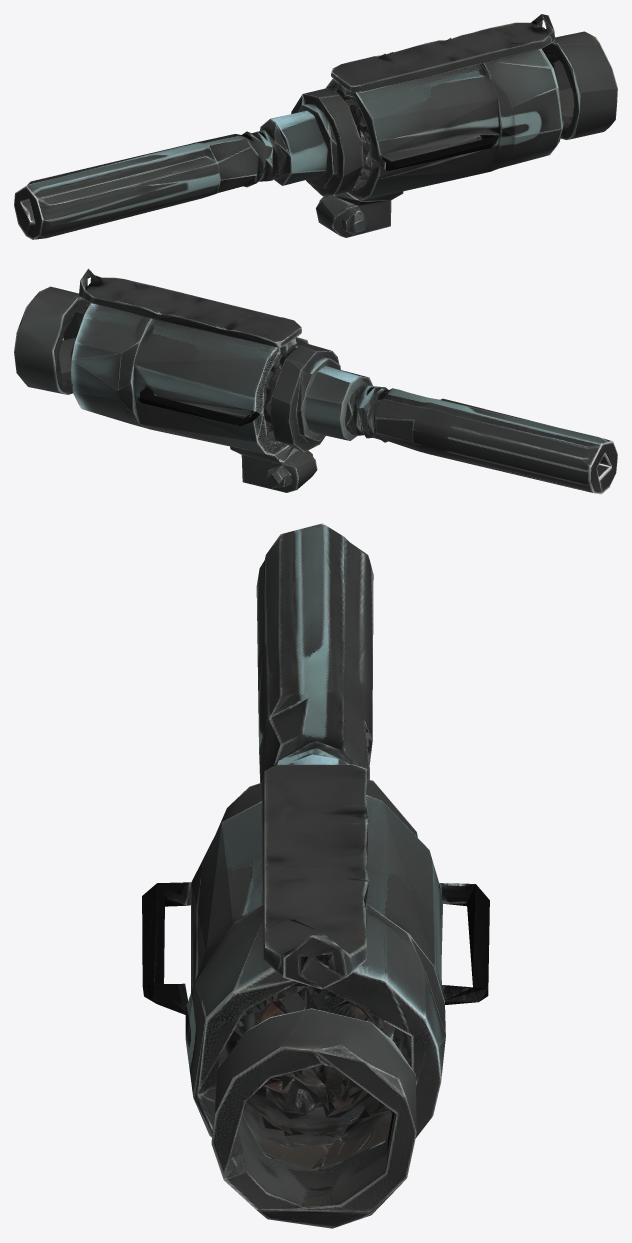
3 views of the same model, one above another, from view 1: azimuth 30°, elevation 25°; view 2: azimuth 150°, elevation 25°; view 3: azimuth 270°, elevation 25° (orthographic). The views are drawn at different scales.
Bounding box in the file's own units: 1.9 × 0.531 × 0.5049.
Materials: 1 (1 with a texture image).
